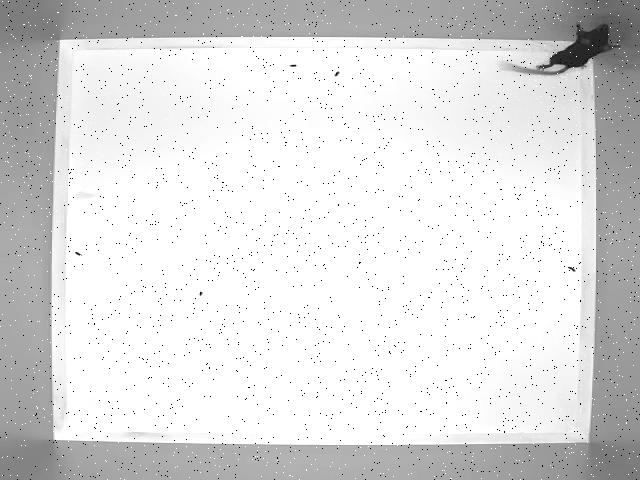Tikus: (504, 13, 626, 81)
